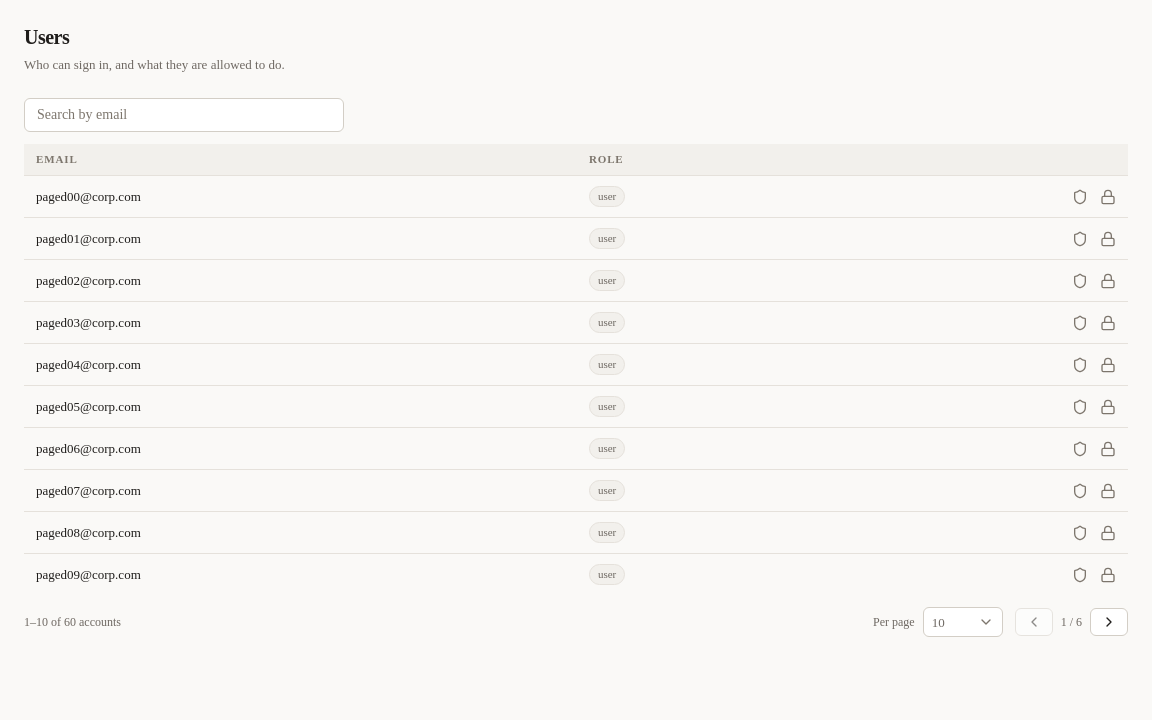
it: UsersManager › pagination › returns to the first page when the page size grows
What coordinates should you click on to do the following:
click the button named "Next page"
I would click on:
 (1109, 622)
Its box is [1090,608,1128,636].
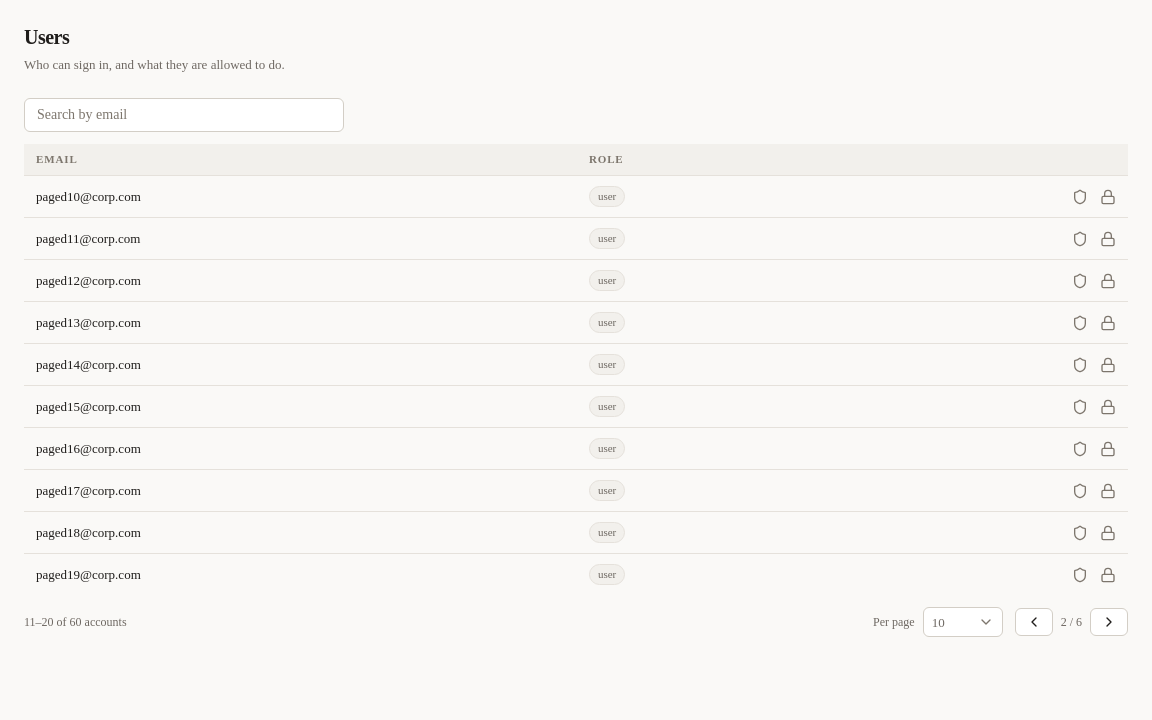
expect the text "paged10@corp.com" is shown: met, box [36,189,141,204]
What coordinates should you click on to do the following:
click the button named "Rows per page"
I would click on:
 (963, 622)
Its box is [923,607,1003,637].
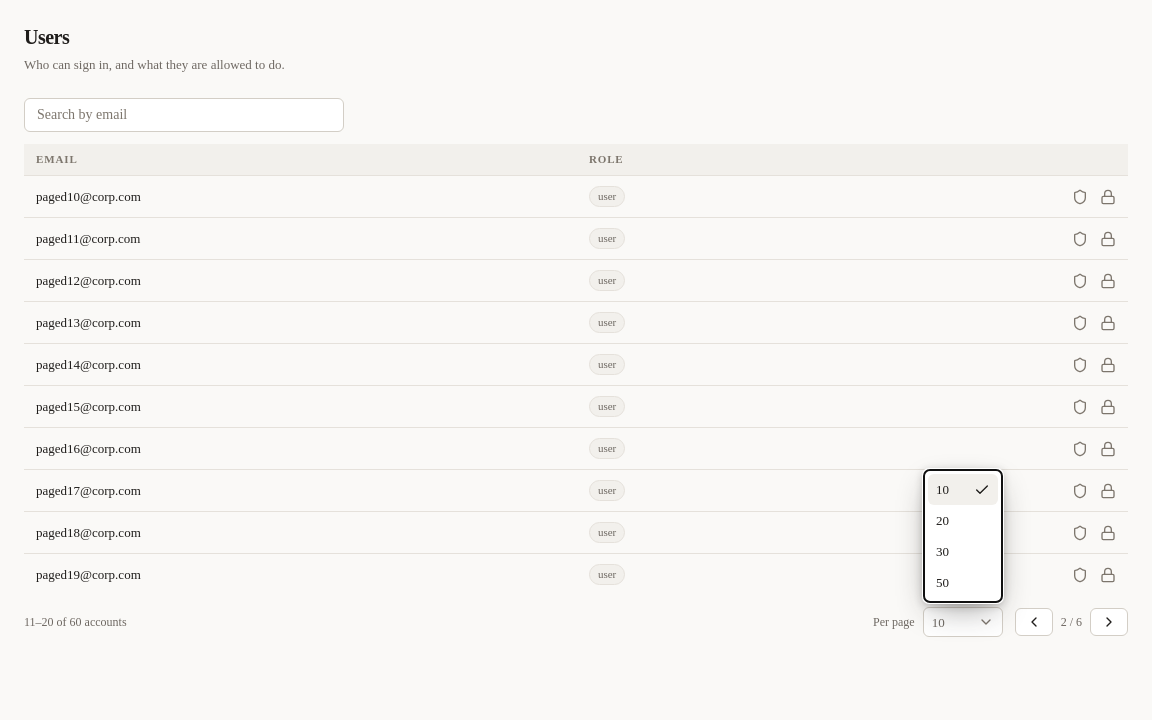
What coordinates should you click on to do the following:
click the option "50"
I would click on:
 (942, 582)
Its box is [936,575,949,590].
(page scrolled)
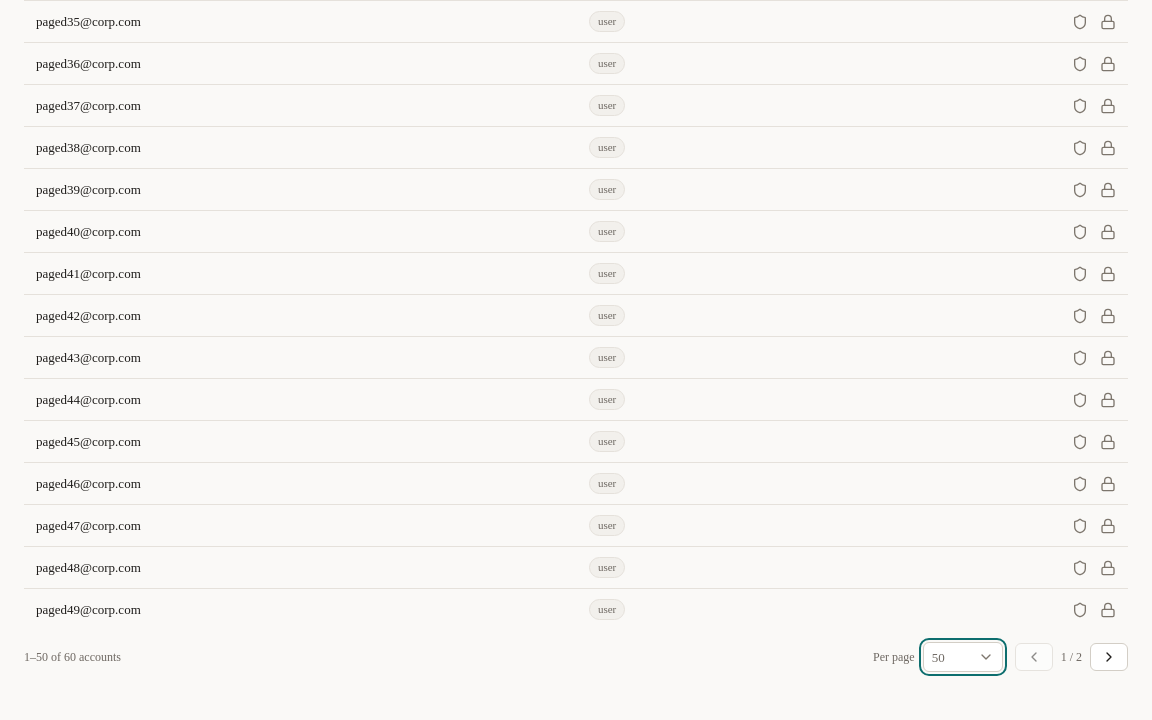
expect the text "1–50 of 60 accounts" is shown: met, box [24,648,121,666]
